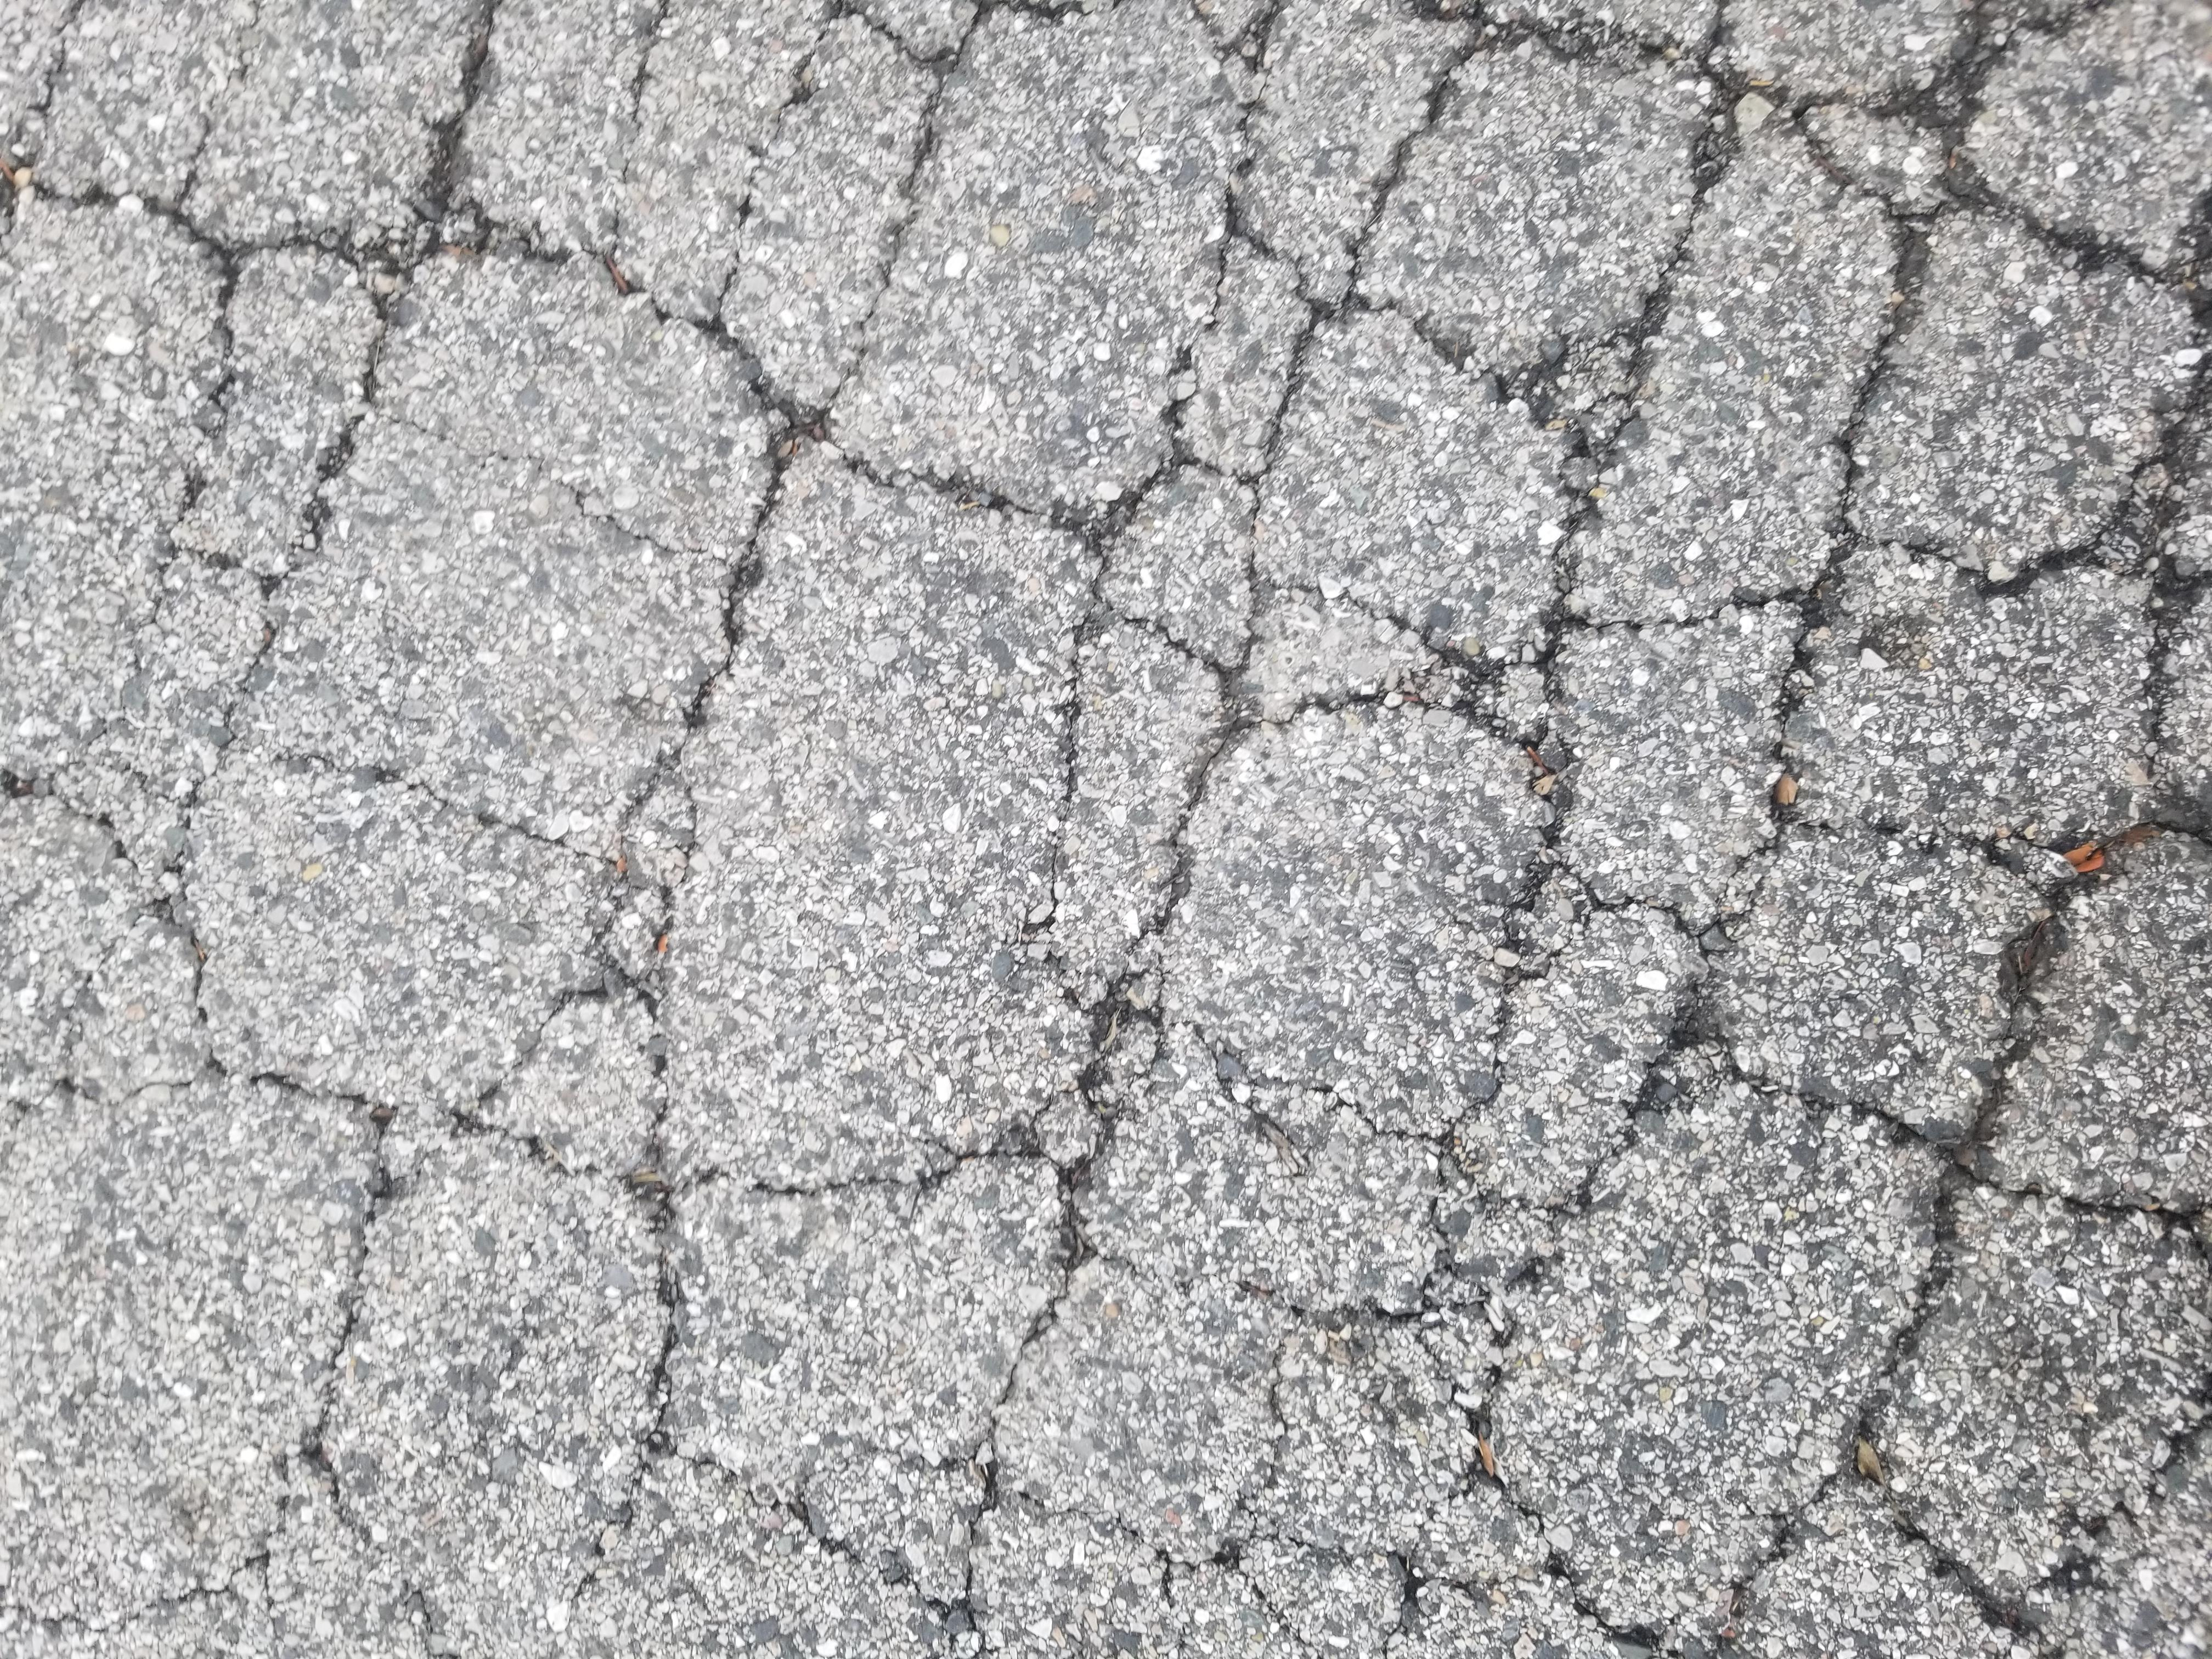alligator-crack: (45, 5, 2212, 1659)
